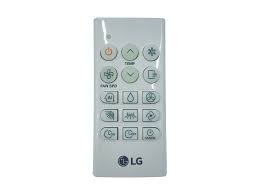remote control: (97, 19, 166, 175)
